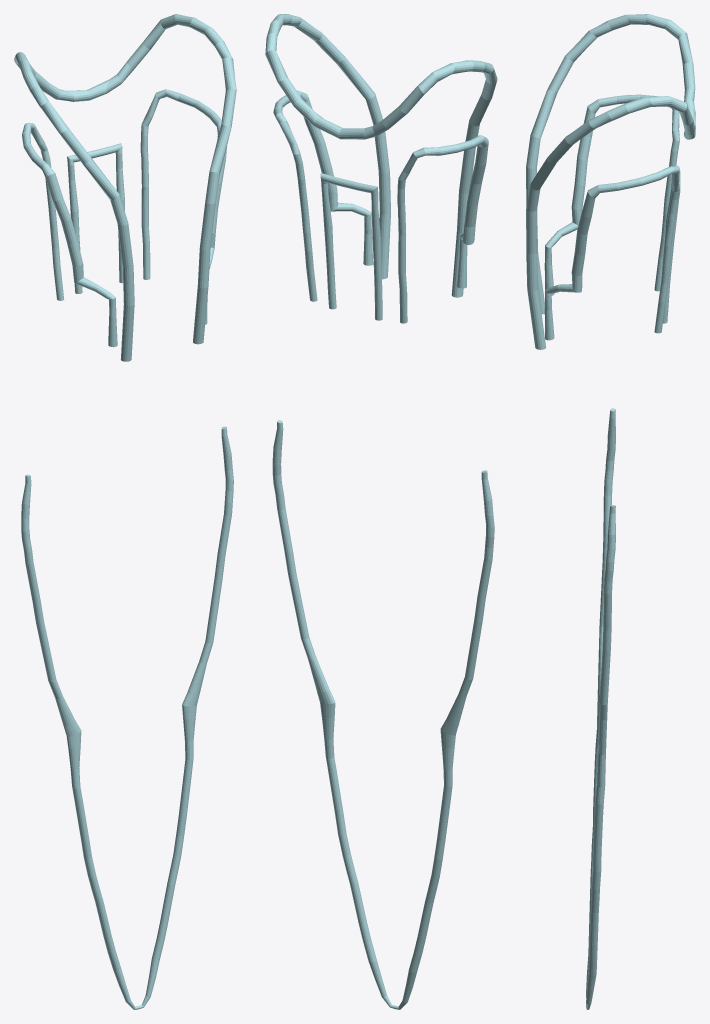
The model's file is PodFemale.obj.
The picture shows the model from 3 angles, left to right: view 1: azimuth 30°, elevation 25°; view 2: azimuth 150°, elevation 25°; view 3: azimuth 270°, elevation 25°; orthographic projection. The views are drawn at different scales.
Parts seen in each view (by area): view 1: Cylinder.008_Cylinder.001; view 2: Cylinder.008_Cylinder.001; view 3: Cylinder.008_Cylinder.001.
Boxes of the visible parts, x1=… form: Cylinder.008_Cylinder.001: x1=14, y1=14, x2=236, y2=1009; Cylinder.008_Cylinder.001: x1=265, y1=14, x2=497, y2=1009; Cylinder.008_Cylinder.001: x1=526, y1=14, x2=695, y2=1009.
Bounding box in the file's own units: 0.3351 × 1.44 × 0.232.
1 material, 1 textured.
